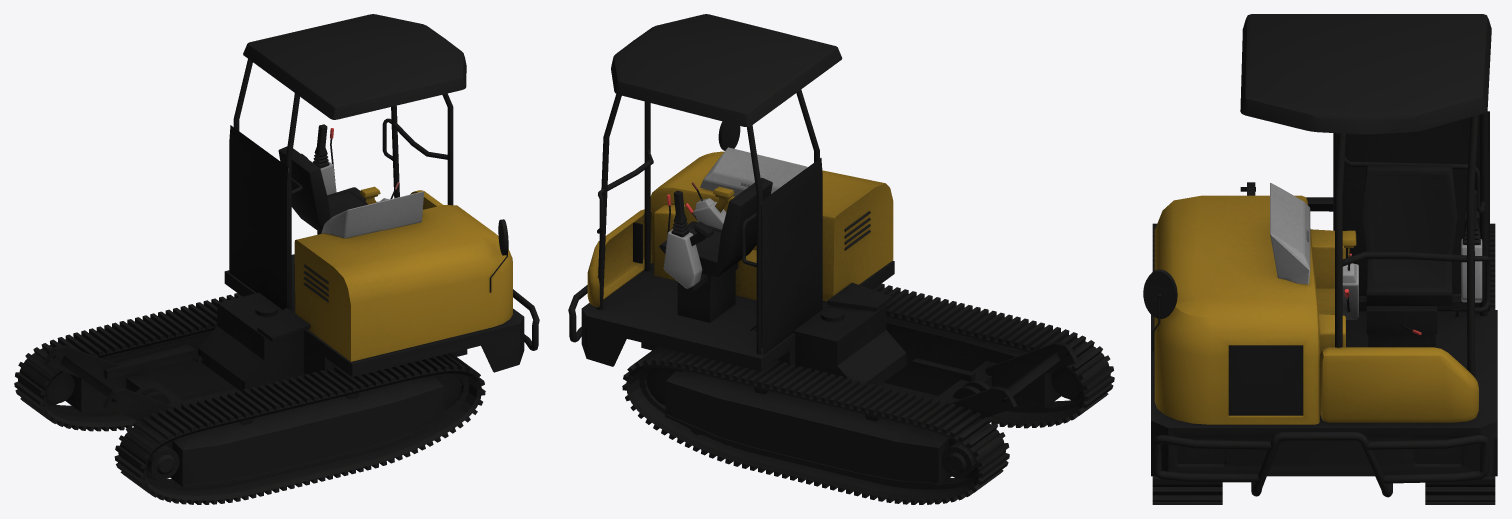
File: c30r-body.dae
3 renders of one model, left to right at view 1: azimuth 30°, elevation 25°; view 2: azimuth 150°, elevation 25°; view 3: azimuth 270°, elevation 25°, orthographic. The views are drawn at different scales.
Parts seen in each view (by area): view 1: body; view 2: body; view 3: body.
Boxes of the visible parts, x1,y1,x2,y2 form: body: (14, 14, 539, 504); body: (568, 14, 1114, 504); body: (1143, 14, 1497, 504).
Bounding box in the file's own units: 2.94 × 1.61 × 2.3.
Materials: 1 (1 with a texture image).
